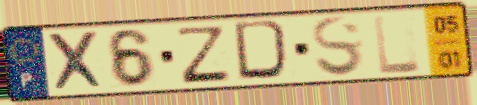6: (104, 27, 159, 90)
D: (231, 18, 296, 83)
L: (371, 12, 424, 77)
S: (309, 14, 367, 79)
X: (43, 29, 110, 94)
Z: (175, 25, 234, 86)
